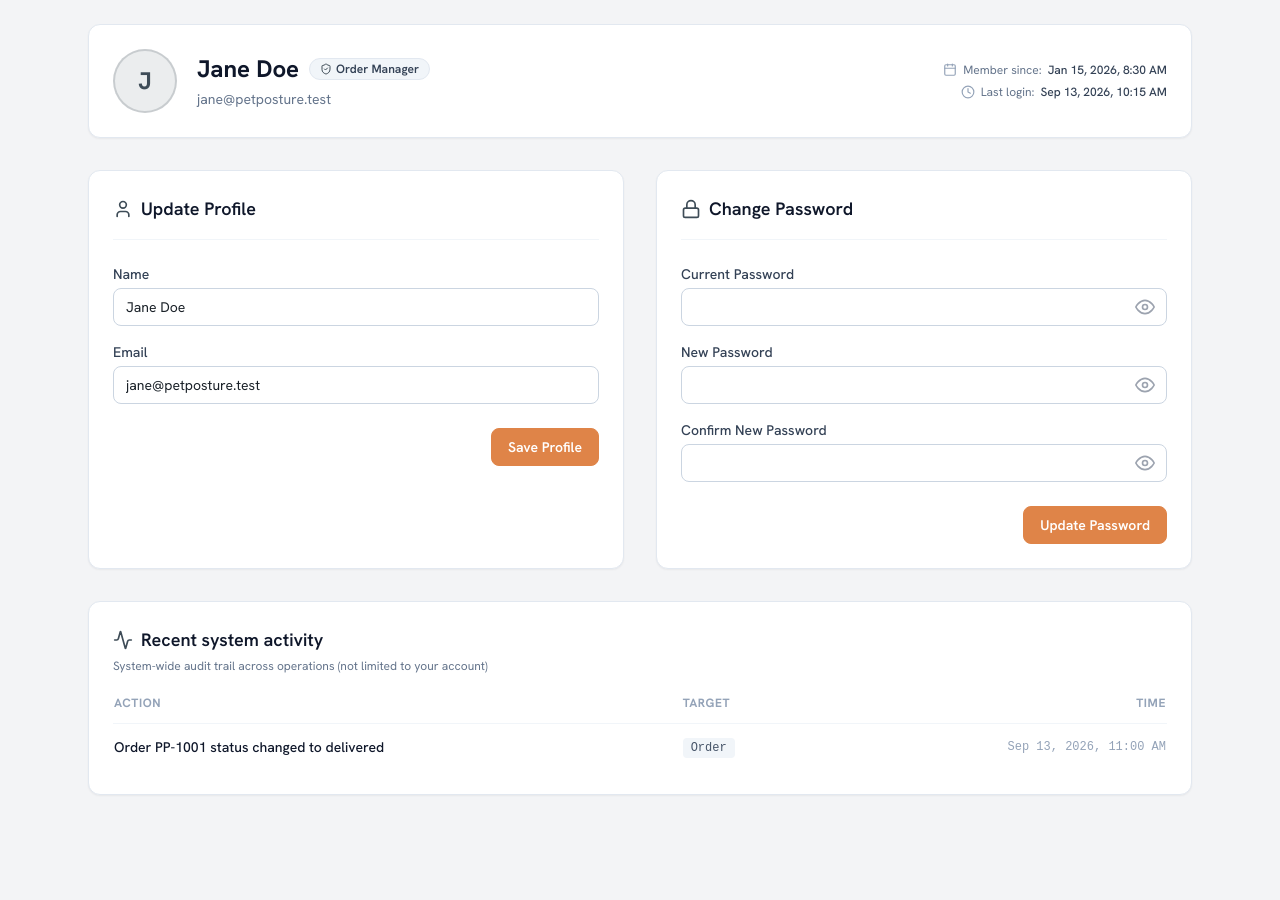
Test case: ProfilePage › submits password change and surfaces password validation errors
Type "wrongpass" into the password field labelled "Current Password". click: (924,307)
box: [681, 288, 1167, 326]
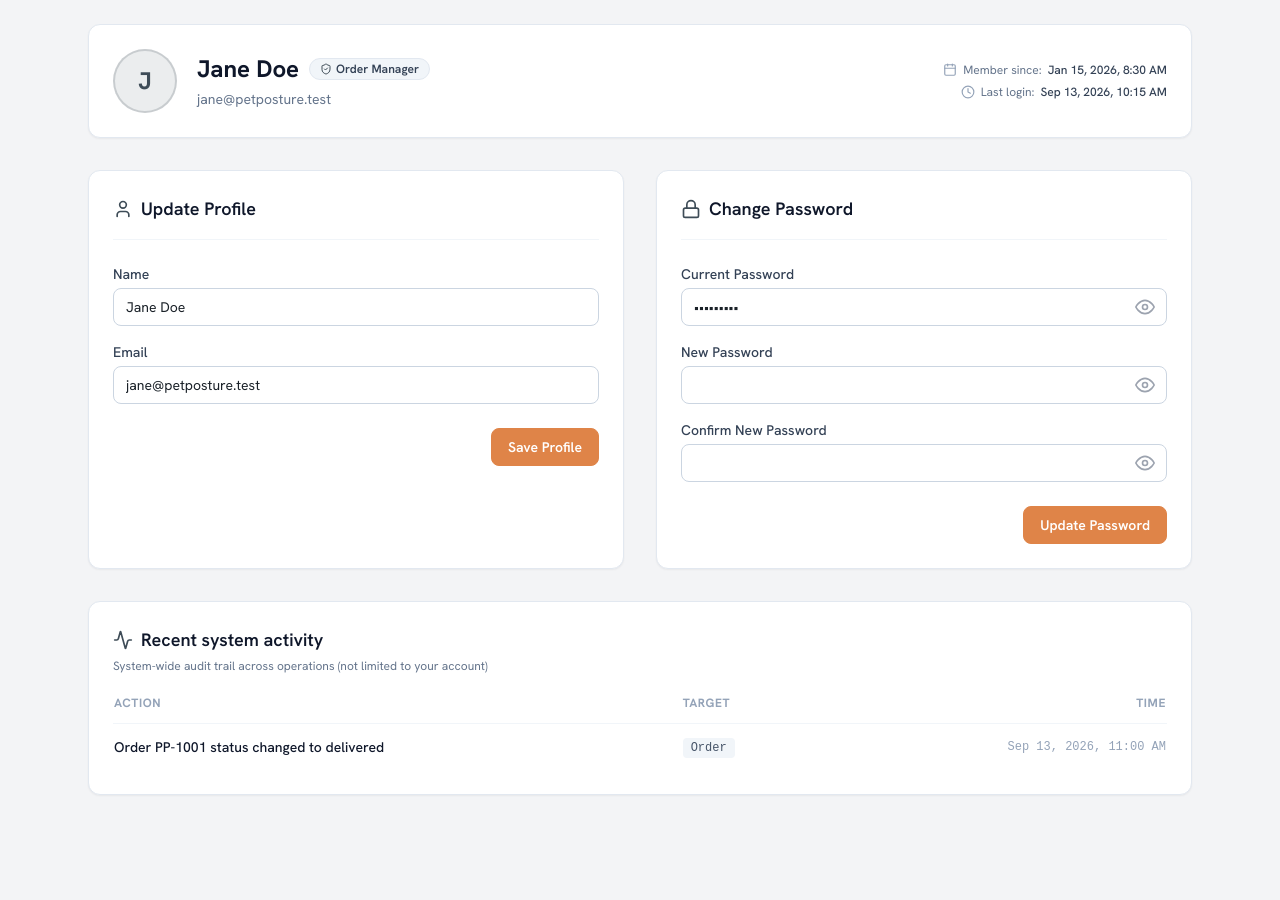
Type "newsecret123" into the password field labelled "New Password". click: (924,385)
box: [681, 366, 1167, 404]
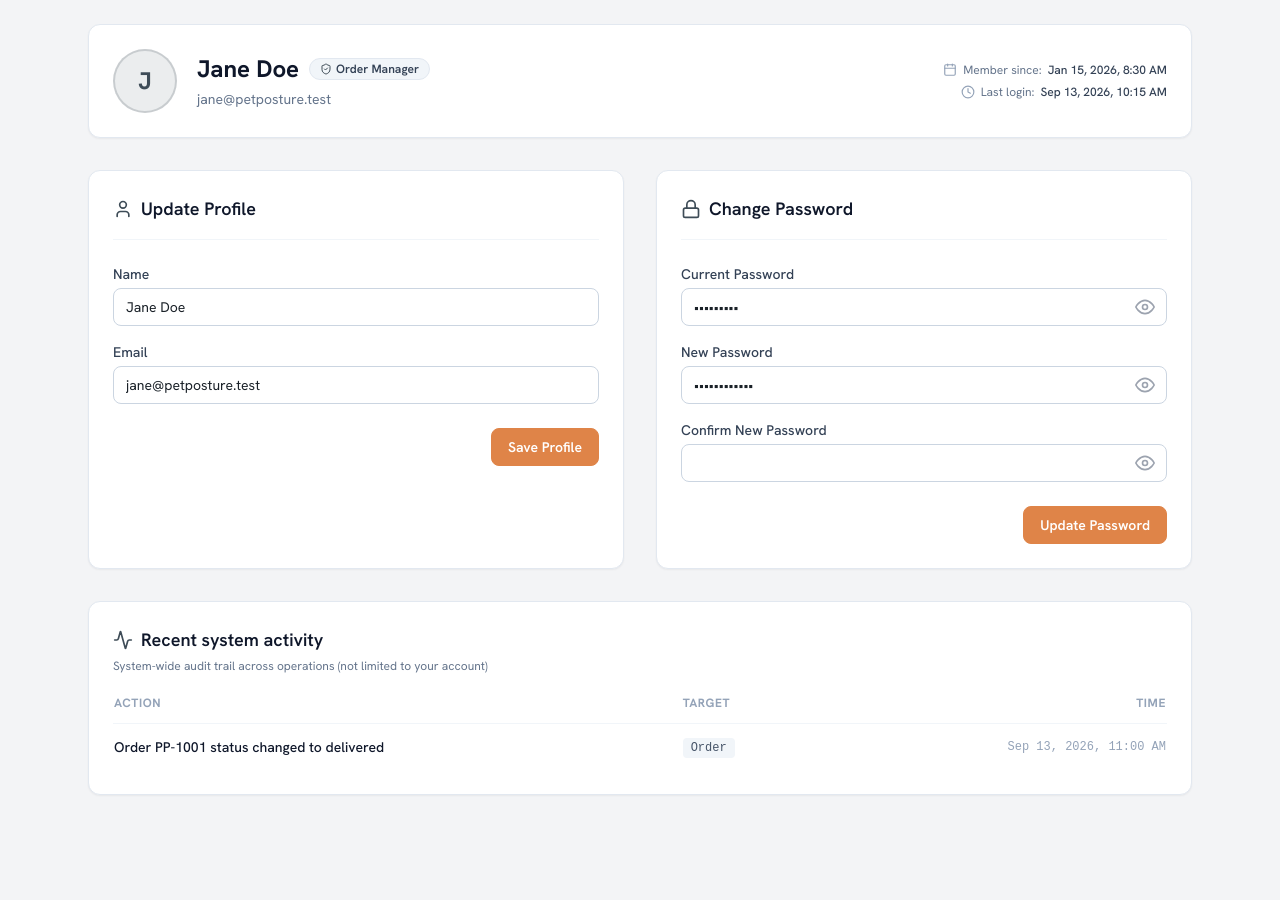
Type "newsecret123" into the password field labelled "Confirm New Password". click: (924,463)
box: [681, 444, 1167, 482]
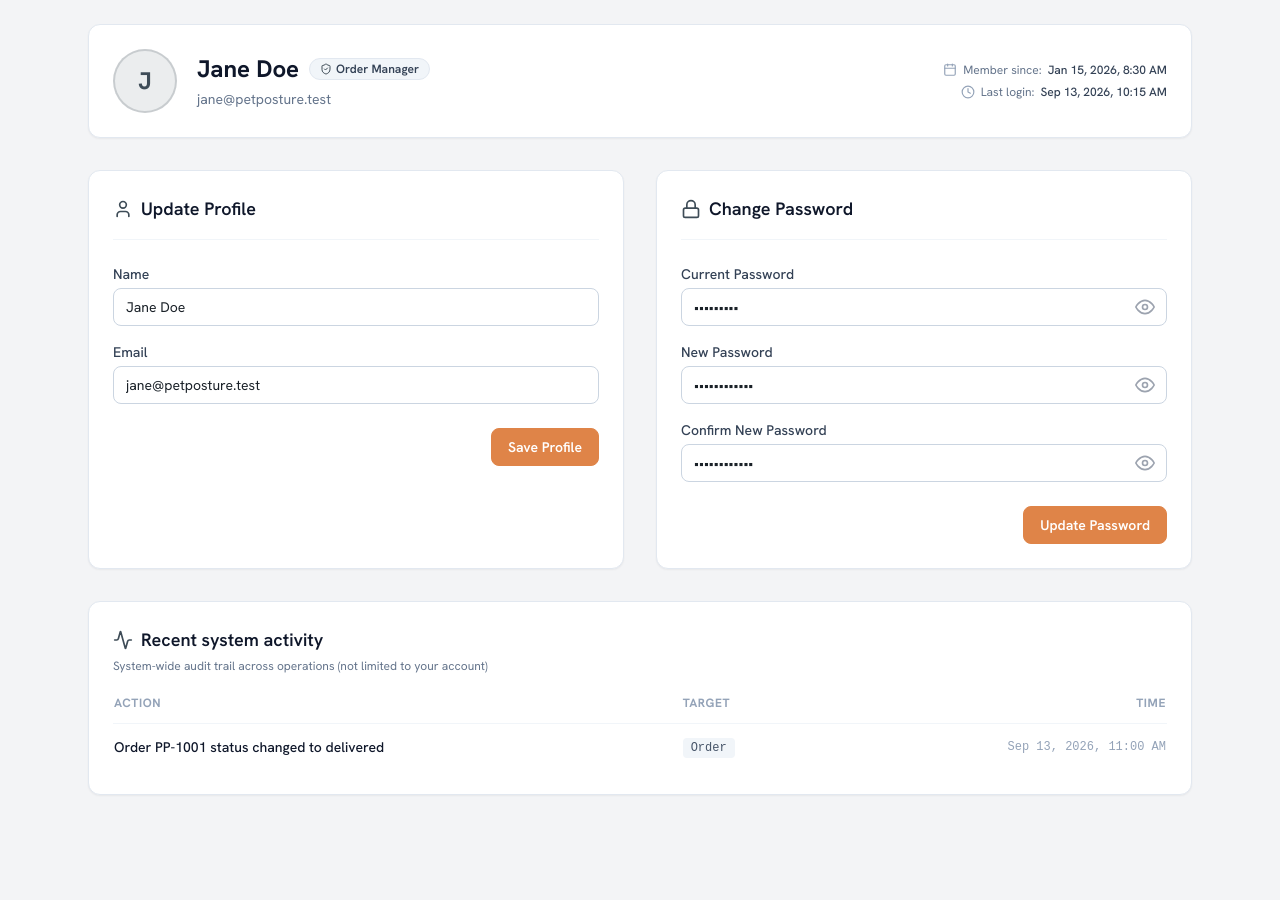
Click the button "Update Password". click: (1095,525)
box: [1023, 506, 1167, 544]
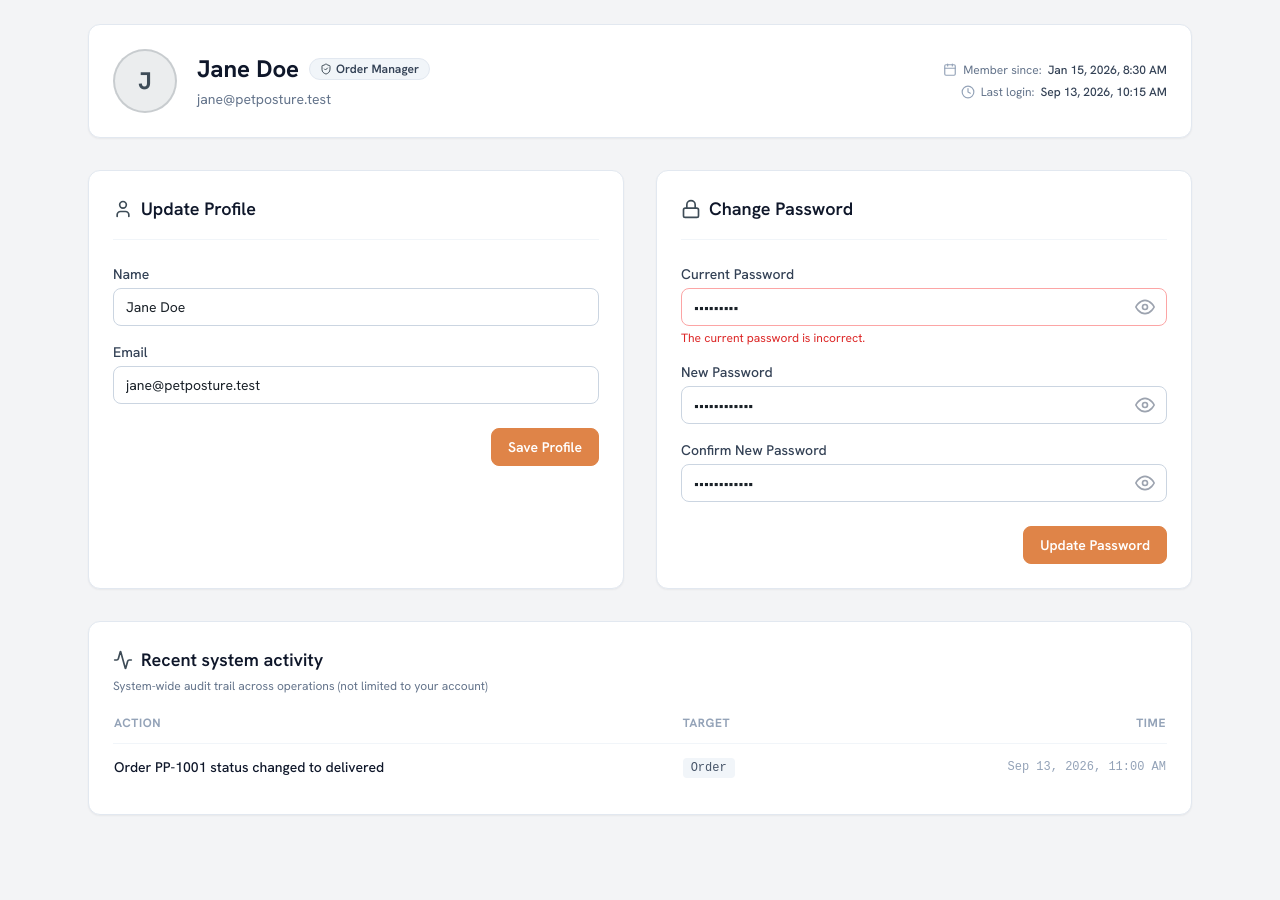
Expected: the text "The current password is incorrect." is shown, [681, 330, 865, 346]
